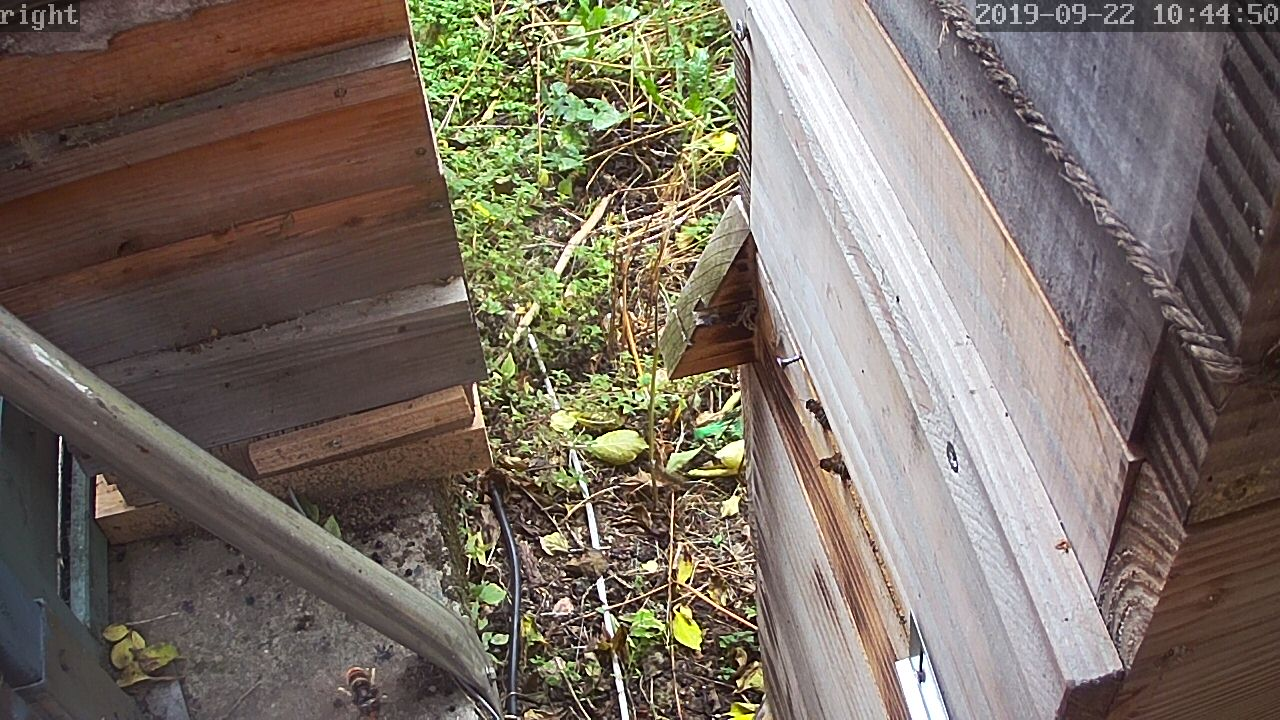bee: (798, 387, 831, 433), (814, 449, 850, 486)
hornet: (331, 653, 405, 719)
